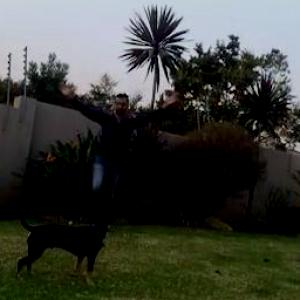takeoff: (55, 84, 183, 225)
